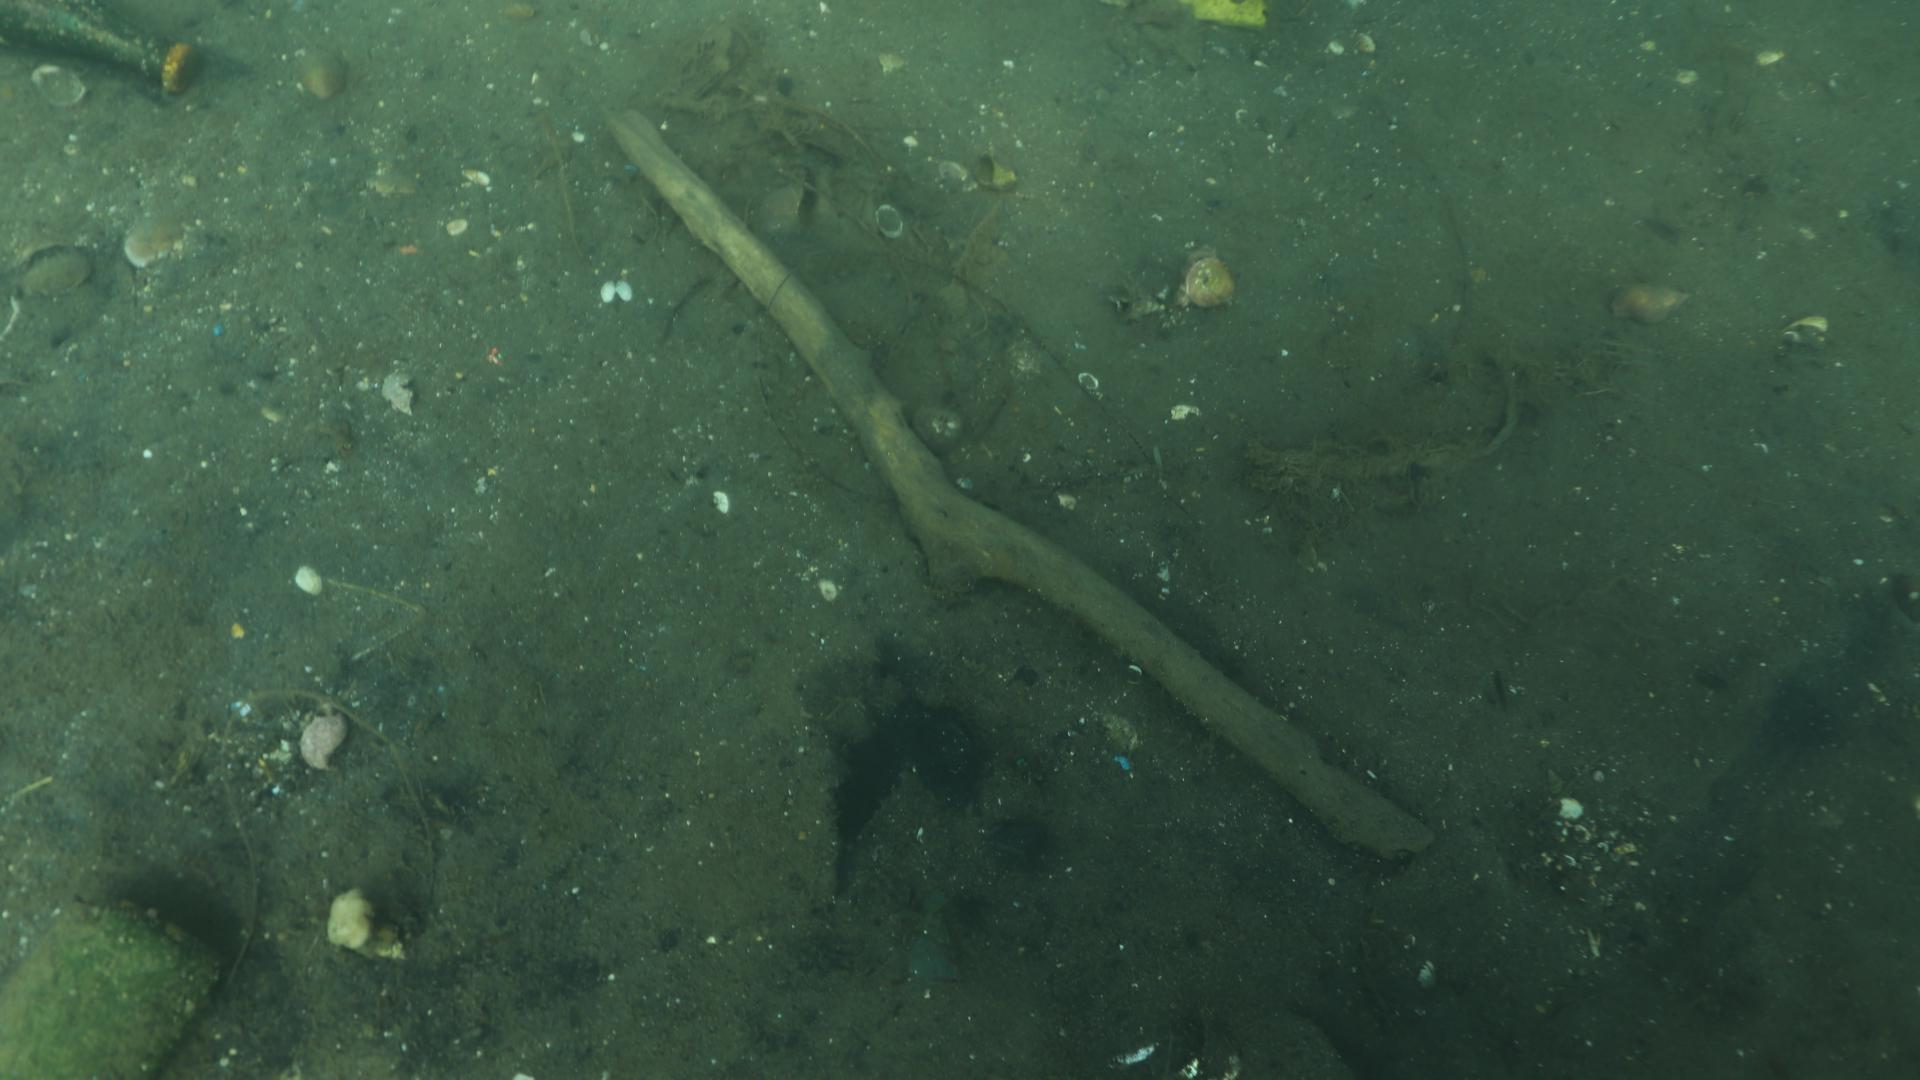wood: (603, 107, 1437, 862)
